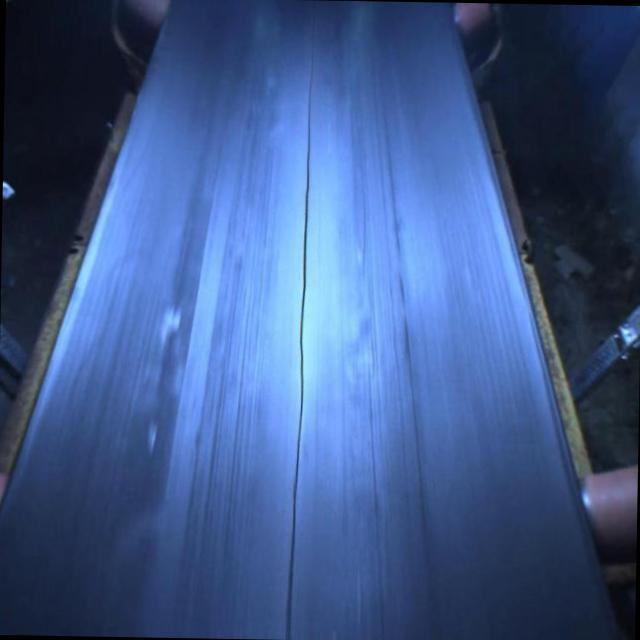Tear: (275, 64, 318, 640)
